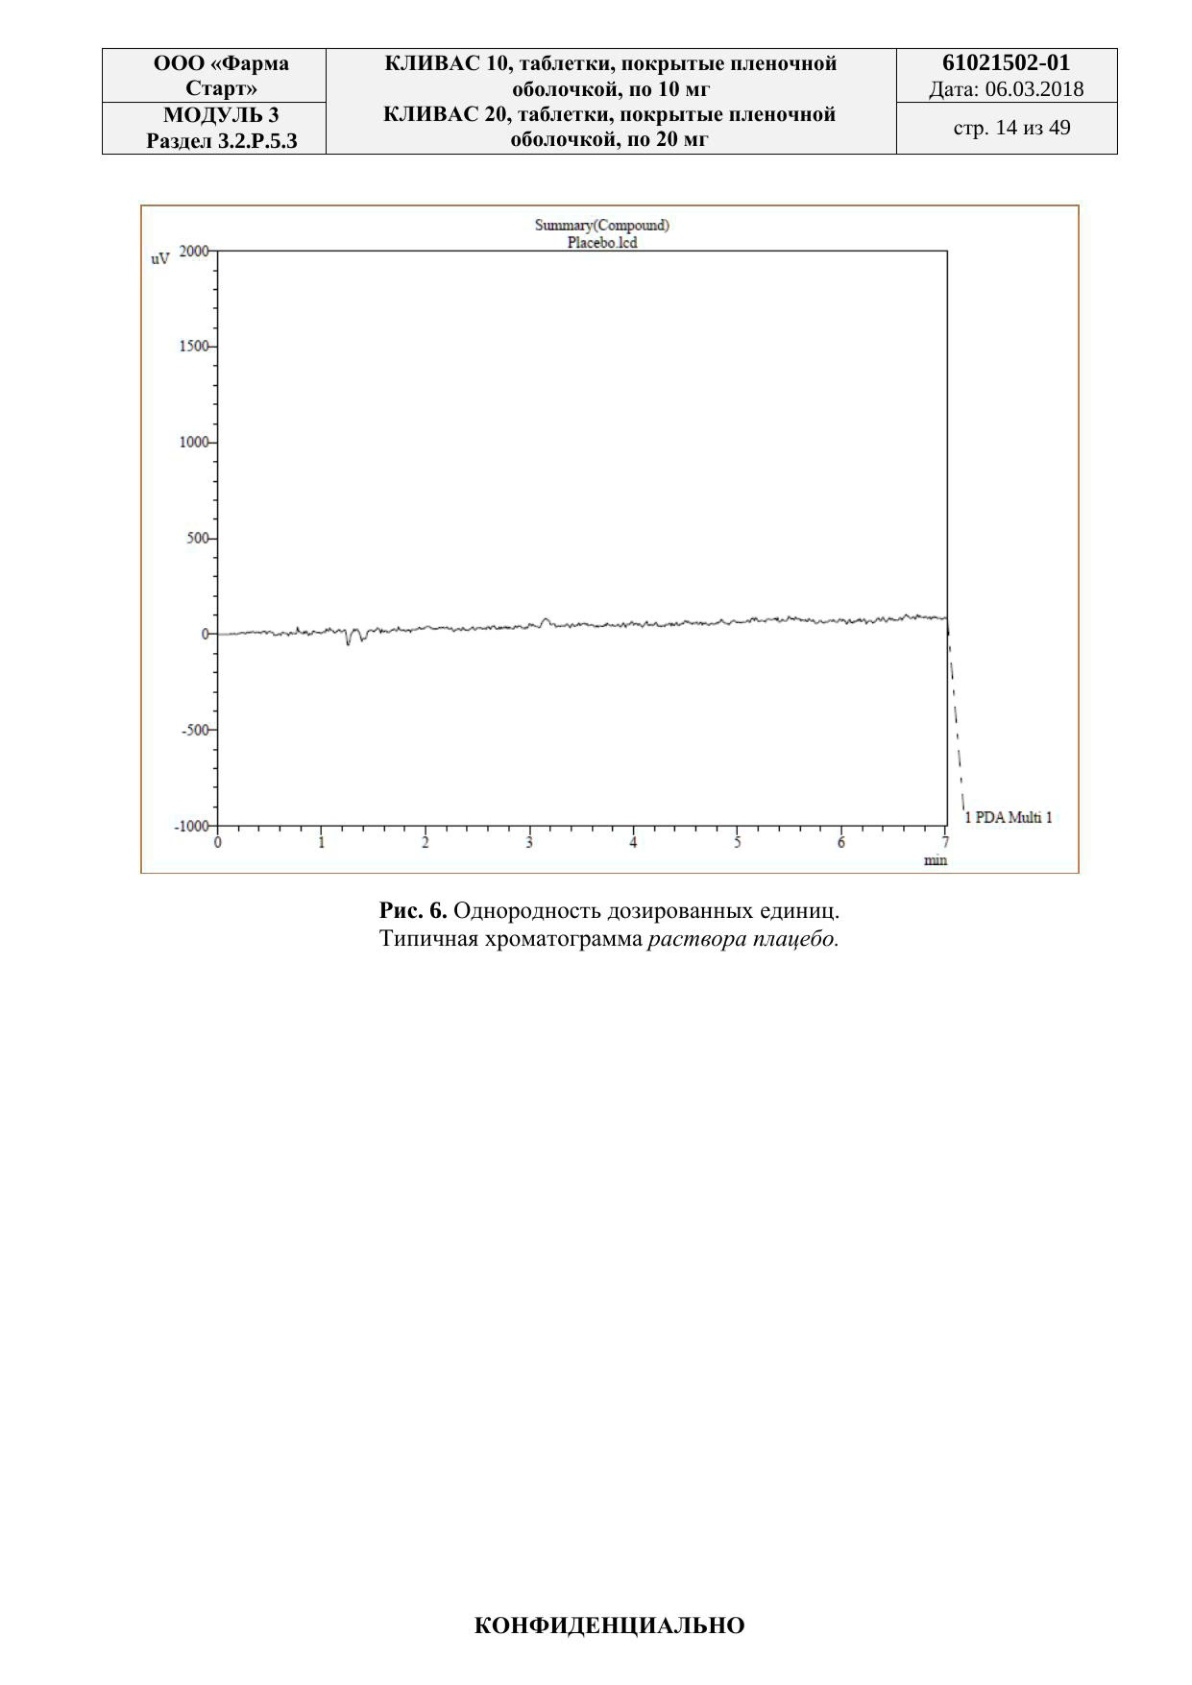merged_cells: (101, 46, 1118, 156)
